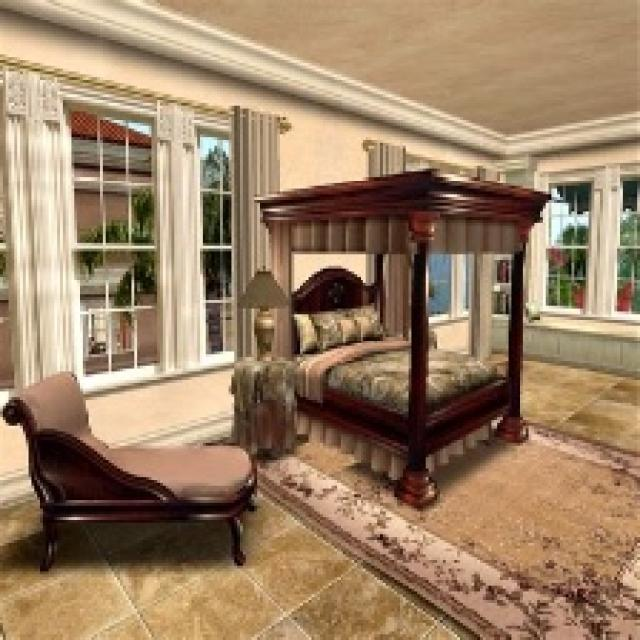Bed: (237, 165, 552, 506)
seat: (13, 378, 267, 563)
